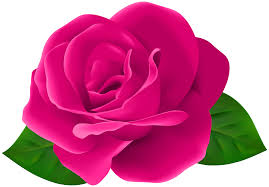lale: (6, 0, 269, 187)
